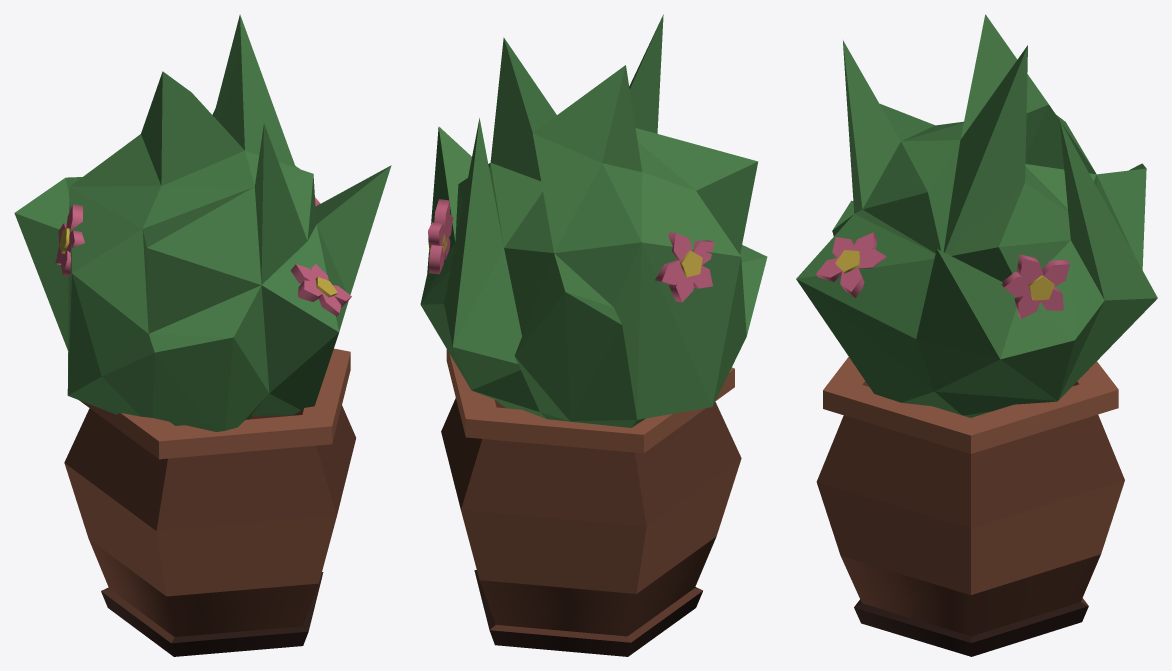
Rendered from flowerpot04.fbx.
3 views of the same model, side by side, from view 1: azimuth 30°, elevation 25°; view 2: azimuth 150°, elevation 25°; view 3: azimuth 270°, elevation 25° (orthographic). The views are drawn at different scales.
Visible parts, largest first — view 1: flowerpot04; view 2: flowerpot04; view 3: flowerpot04.
Boxes of the visible parts, x1,y1,x2,y2 form: flowerpot04: (14,14,391,656); flowerpot04: (420,14,767,656); flowerpot04: (796,14,1157,656).
Bounding box in the file's own units: 13.91 × 24.63 × 13.75.
